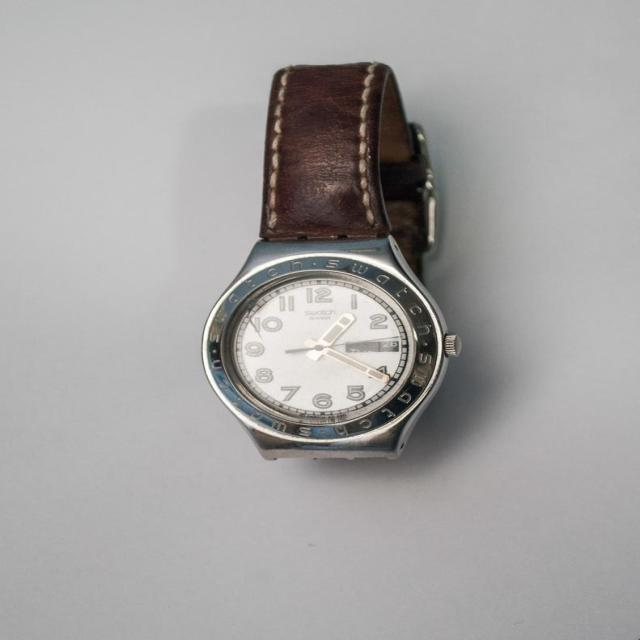Wrist watch: (202, 60, 468, 466)
